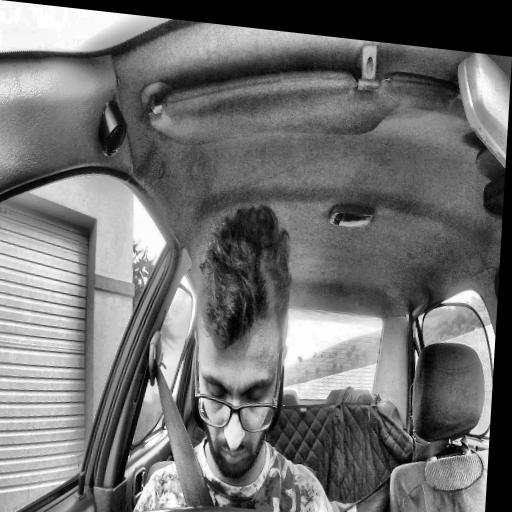drowsy: (185, 197, 297, 490)
